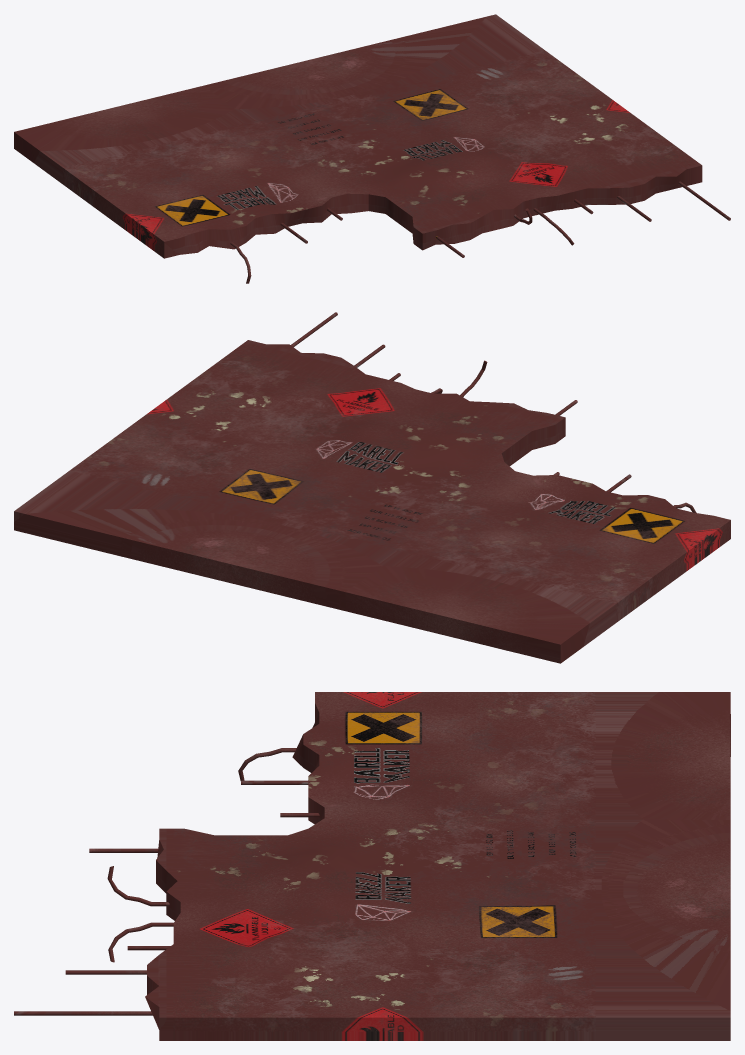
Rendered from CS_floor_broken.FBX.
The picture shows the model from 3 angles, top to bottom: view 1: azimuth 30°, elevation 25°; view 2: azimuth 150°, elevation 25°; view 3: azimuth 270°, elevation 25°; orthographic projection. The views are drawn at different scales.
Visible parts, largest first — view 1: SM_floor_broken; view 2: SM_floor_broken; view 3: SM_floor_broken.
Part boxes in pixels (x1,y1,x2,y2): SM_floor_broken: (14, 14, 730, 283); SM_floor_broken: (14, 312, 730, 663); SM_floor_broken: (14, 692, 730, 1040).
Size of the model in its own units: 600 by 558 by 62.71.
